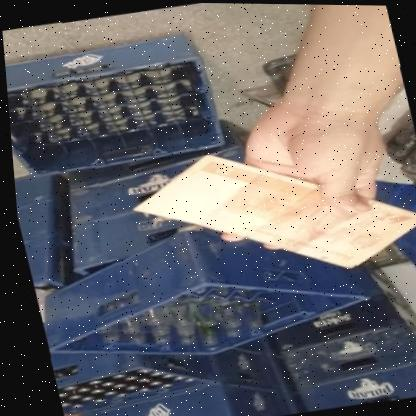twenty-back-vef: (116, 119, 416, 300)
